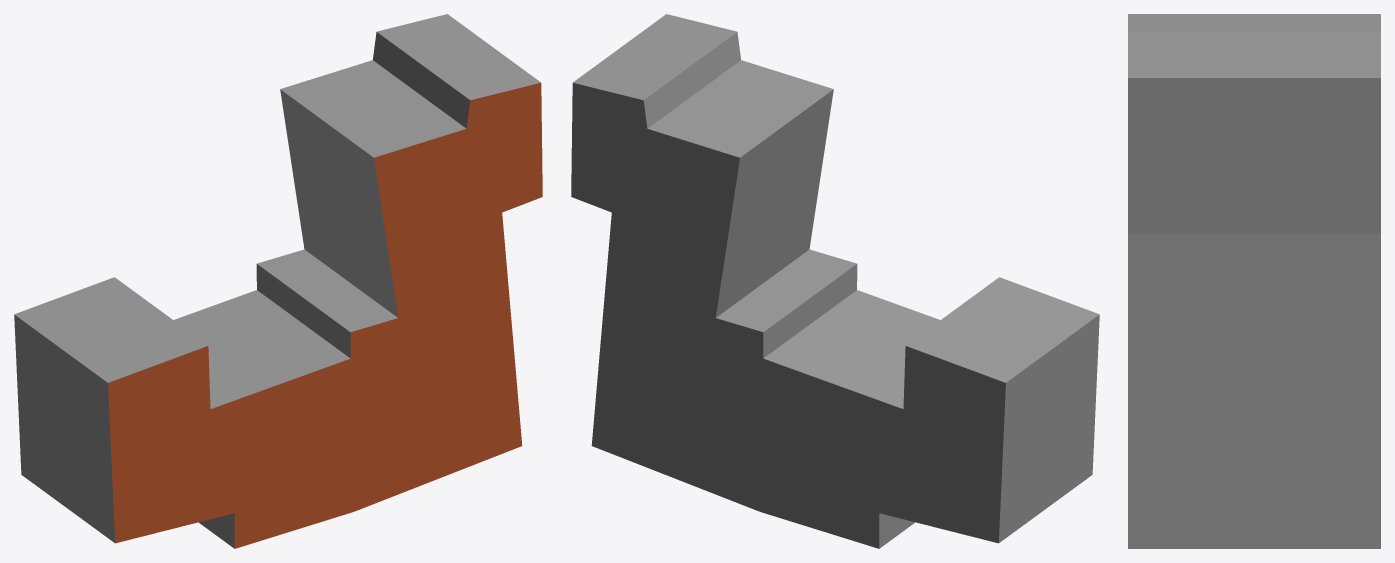
File: construction_2996_assumed_A_Casa_h6m.obj
3 views of the same model, side by side, from view 1: azimuth 30°, elevation 25°; view 2: azimuth 150°, elevation 25°; view 3: azimuth 270°, elevation 25° (orthographic). The views are drawn at different scales.
Parts seen in each view (by area): view 1: construction_2996_assumed_A_Casa; view 2: construction_2996_assumed_A_Casa; view 3: construction_2996_assumed_A_Casa.
Boxes of the visible parts, x1,y1,x2,y2 form: construction_2996_assumed_A_Casa: (14, 14, 542, 548); construction_2996_assumed_A_Casa: (571, 14, 1099, 548); construction_2996_assumed_A_Casa: (1128, 14, 1380, 548).
Bounding box in the file's own units: 16.06 × 13.82 × 6.
